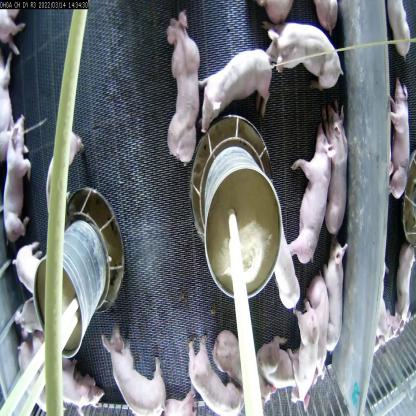Pig: (200, 30, 279, 144), (259, 11, 339, 103), (164, 4, 208, 154), (299, 277, 340, 415), (106, 333, 173, 415), (181, 336, 235, 415), (12, 235, 68, 310), (0, 110, 32, 240), (44, 347, 105, 415), (251, 330, 299, 416), (44, 128, 85, 227), (294, 134, 324, 257), (320, 235, 349, 352), (321, 116, 352, 220), (219, 333, 245, 386)
